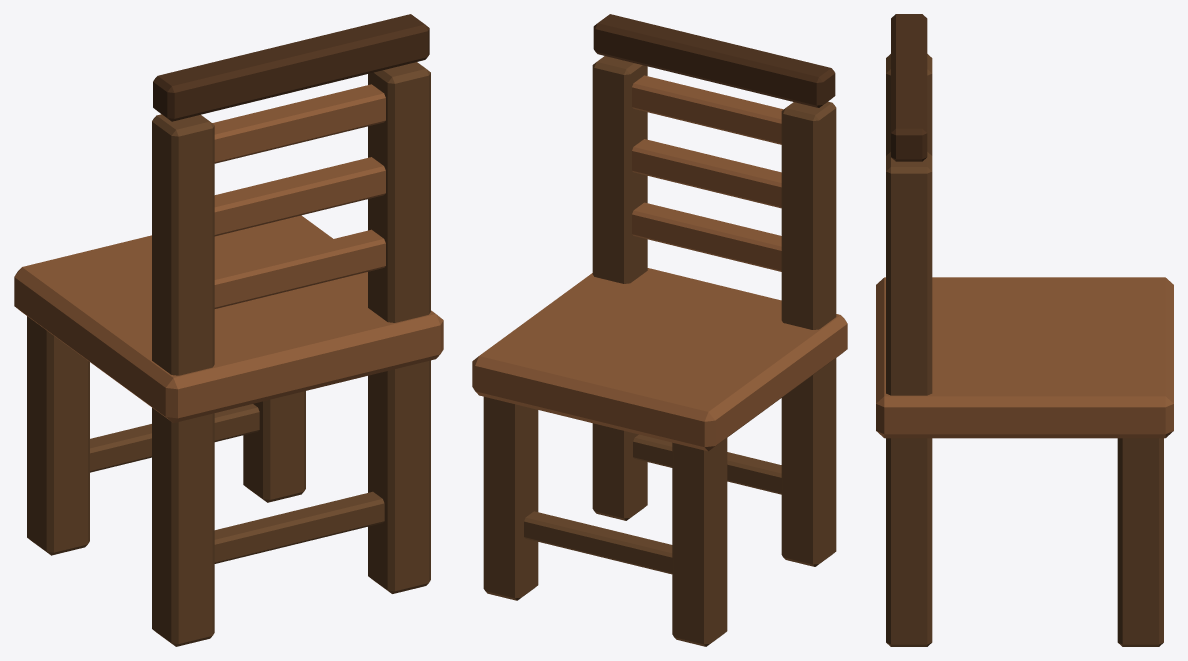
Rendered from Chair.glb.
3 renders of one model, left to right at view 1: azimuth 30°, elevation 25°; view 2: azimuth 150°, elevation 25°; view 3: azimuth 270°, elevation 25°, orthographic. The views are drawn at different scales.
Parts seen in each view (by area): view 1: Body; view 2: Body; view 3: Body.
Boxes of the visible parts, box(x1,y1,x2,y2) form: Body: box(14, 14, 443, 646); Body: box(472, 14, 847, 646); Body: box(876, 14, 1173, 646).
Size of what is drawn, in the model's own units: 1.8 by 3.46 by 1.8.
